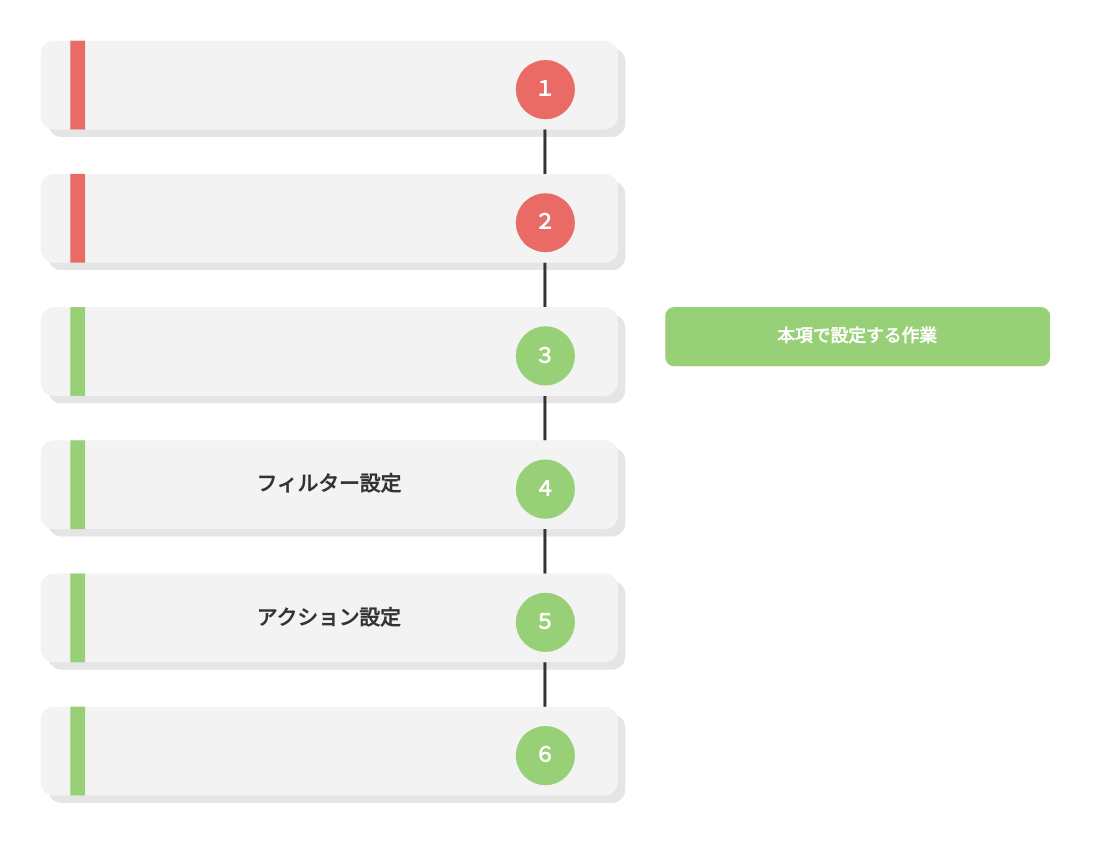
Some shapes in this 1101 by 850 pixel diagram are drawn without their labels. Here are the shapes that lost their labels. From the top down, the box of each, then its label:
(40, 40, 617, 129): イベント収集設定
(40, 173, 617, 262): エージェントのインストール・起動
(40, 306, 617, 395): ラベル設定
(40, 706, 617, 795): ルール設定
